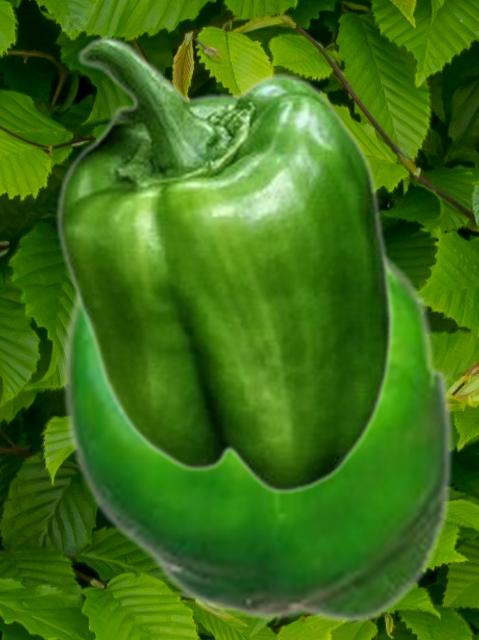bell_pepper: (55, 36, 394, 494), (59, 249, 454, 623)
